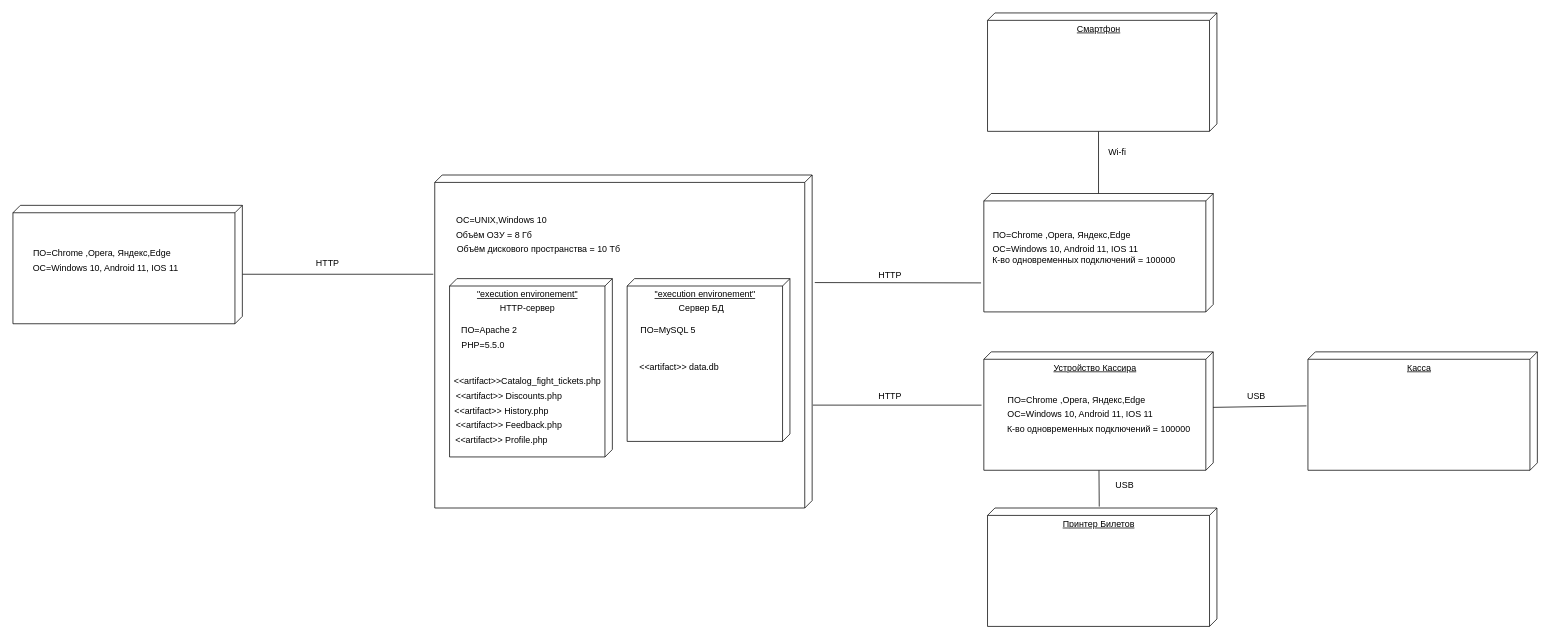
Some shapes in this 1550 by 639 pixel diagram are drawn without their labels. The box of each missing label's shape, as (x1, y1, x2, y2) in pixels:
Удалённый сервер: (434, 174, 812, 508)
Устройство Пассажира: (983, 193, 1213, 312)
Устройство_менеджера по продажам_авиабилетов: (12, 205, 242, 324)
